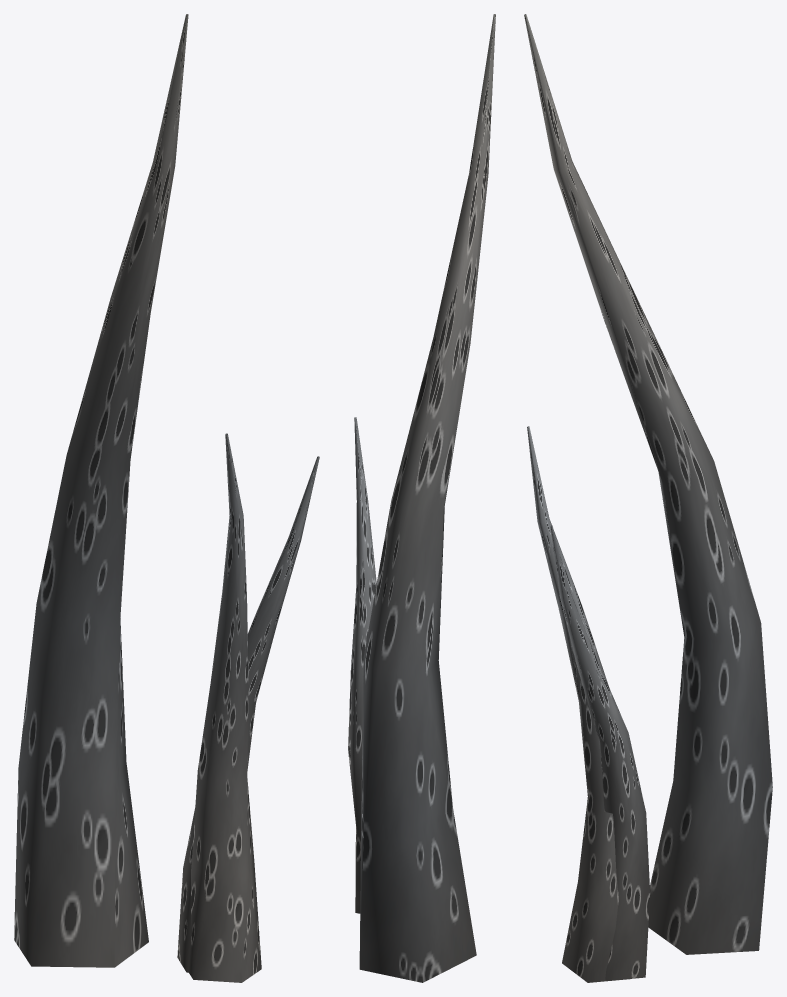
Rendered from spire_ringed_l2.gltf.
3 views of the same model, side by side, from view 1: azimuth 30°, elevation 25°; view 2: azimuth 150°, elevation 25°; view 3: azimuth 270°, elevation 25° (orthographic). The views are drawn at different scales.
Visible parts, largest first — view 1: spire_ringed_l2; view 2: spire_ringed_l2; view 3: spire_ringed_l2.
Part boxes in pixels (x1,y1,x2,y2): spire_ringed_l2: [14, 14, 319, 982]; spire_ringed_l2: [348, 14, 495, 982]; spire_ringed_l2: [524, 14, 772, 982].
Size of the model in its own units: 1.77 by 7.97 by 1.94.
1 material, 1 textured.
